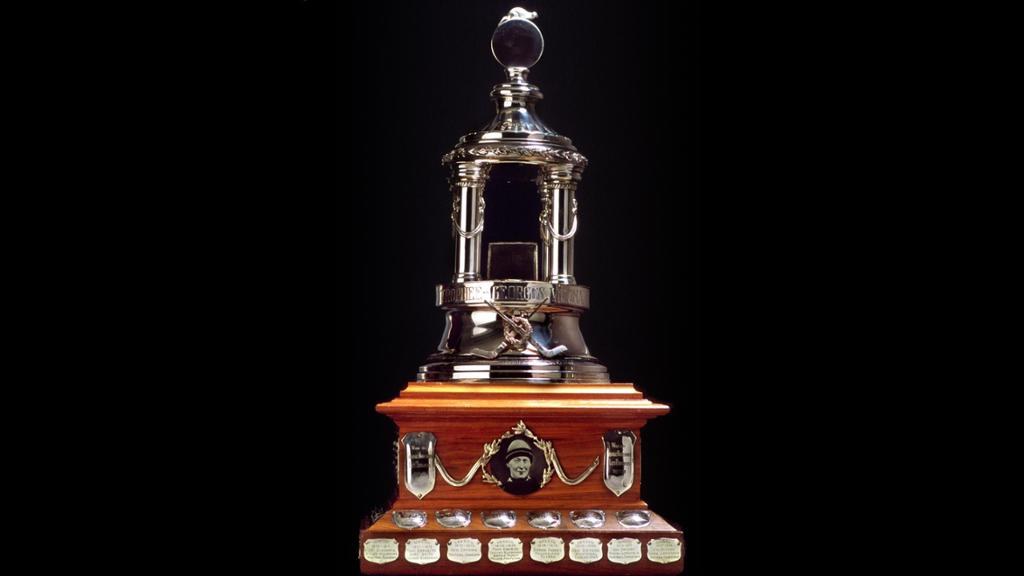trophy: (358, 6, 692, 576)
